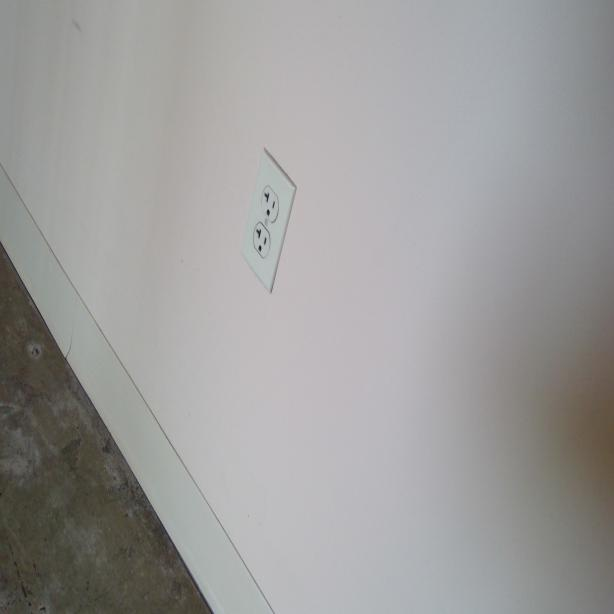typeb: (261, 185, 278, 220), (252, 222, 270, 255)
